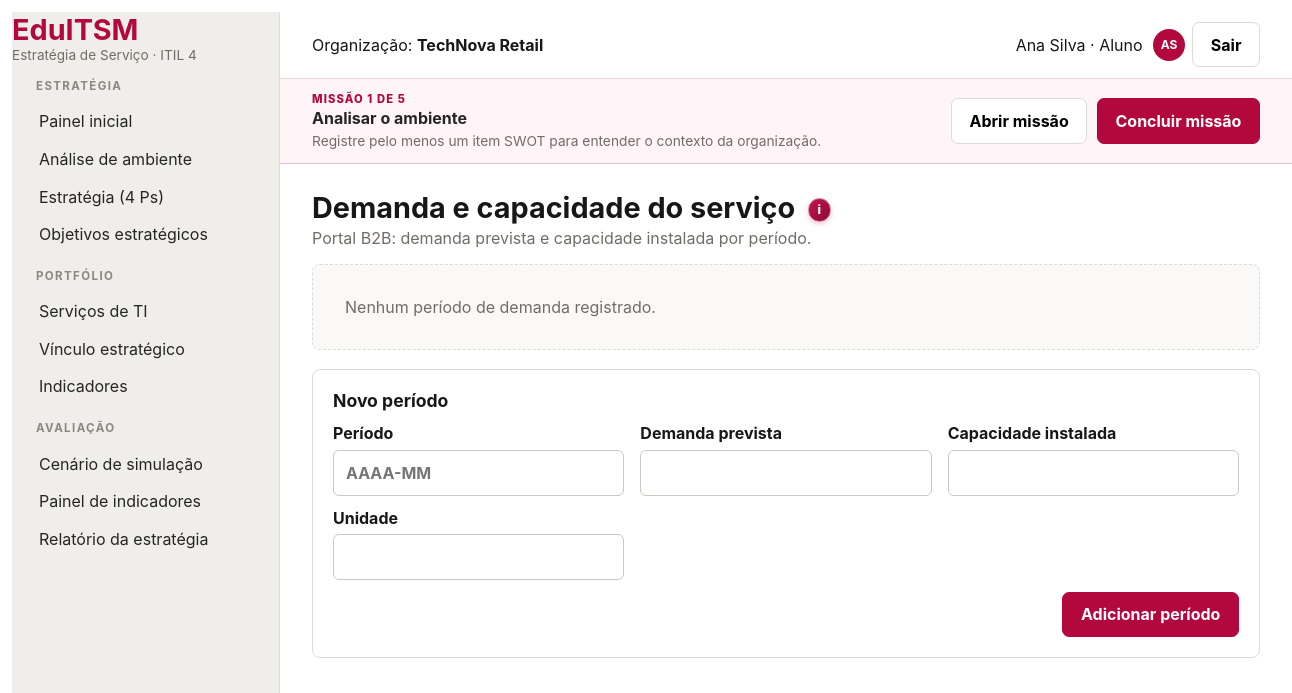
Test: T08 custos e T09 demanda › registra demanda e identifica capacidade excedida
The width and height of the screenshot is (1292, 693).
Expected: the text "Nenhum período de demanda registrado." is shown, x1=312 y1=264 x2=1260 y2=350
Type "2026-09" into the field labelled "Período" at x=479, y=472, box x1=333 y1=450 x2=624 y2=496
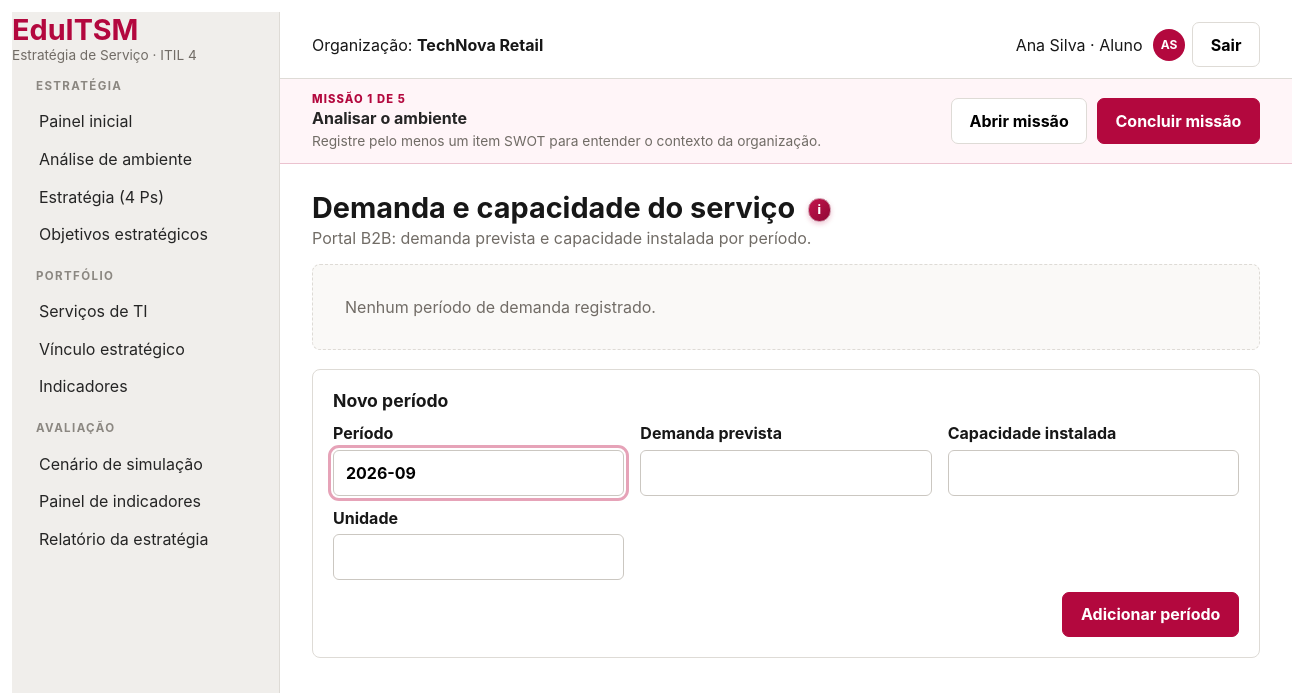
Type "120" into the number field labelled "Demanda prevista" at x=786, y=472, box x1=640 y1=450 x2=932 y2=496
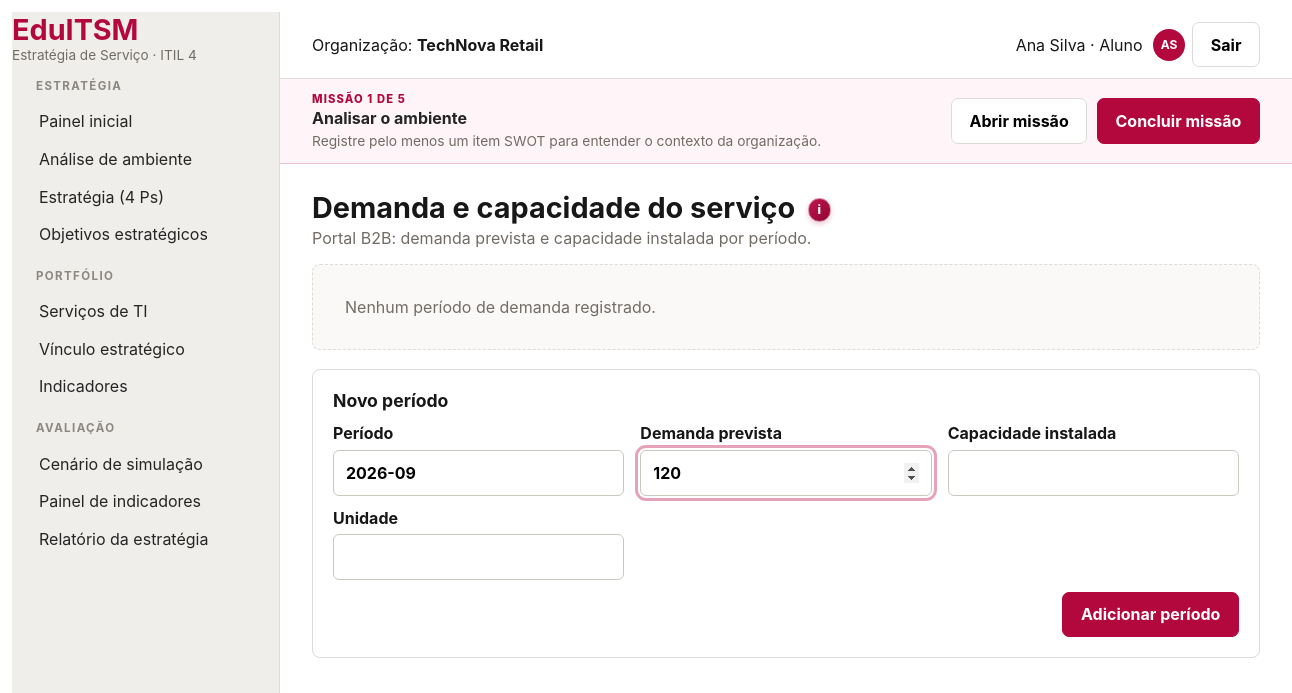
Type "100" into the number field labelled "Capacidade instalada" at x=1093, y=472, box x1=948 y1=450 x2=1239 y2=496
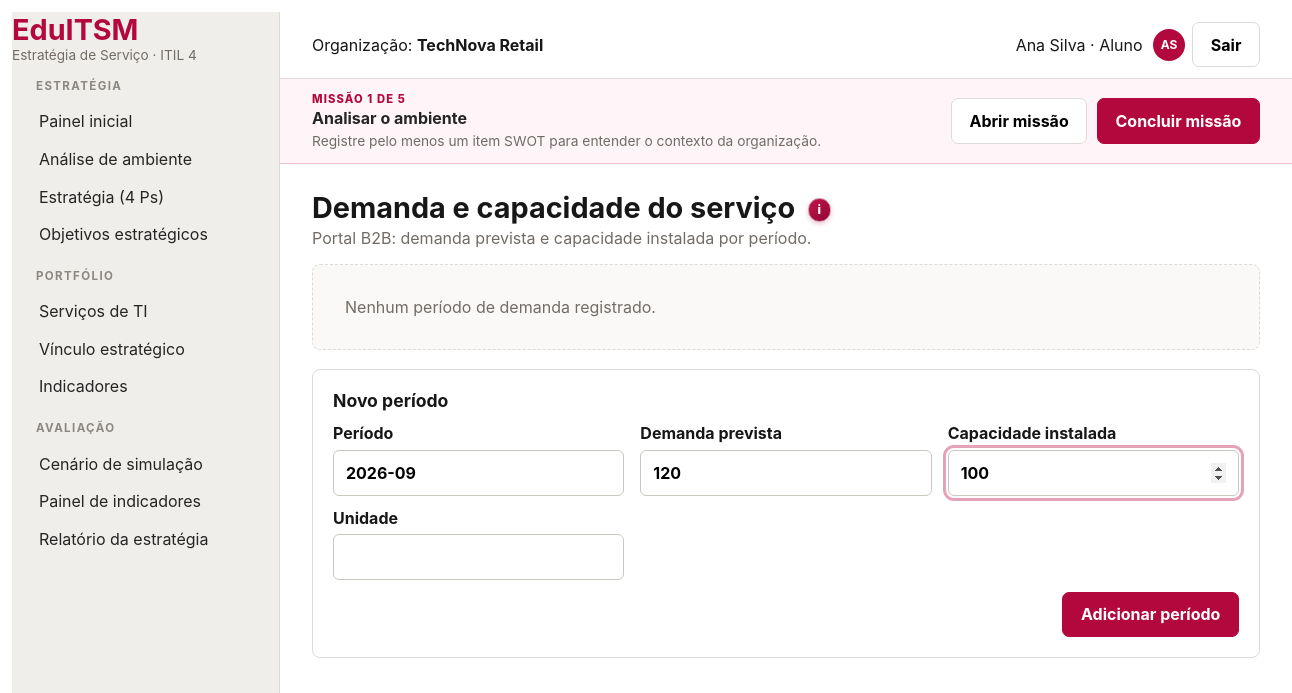
Type "chamados" into the field labelled "Unidade" at x=479, y=557, box x1=333 y1=534 x2=624 y2=580
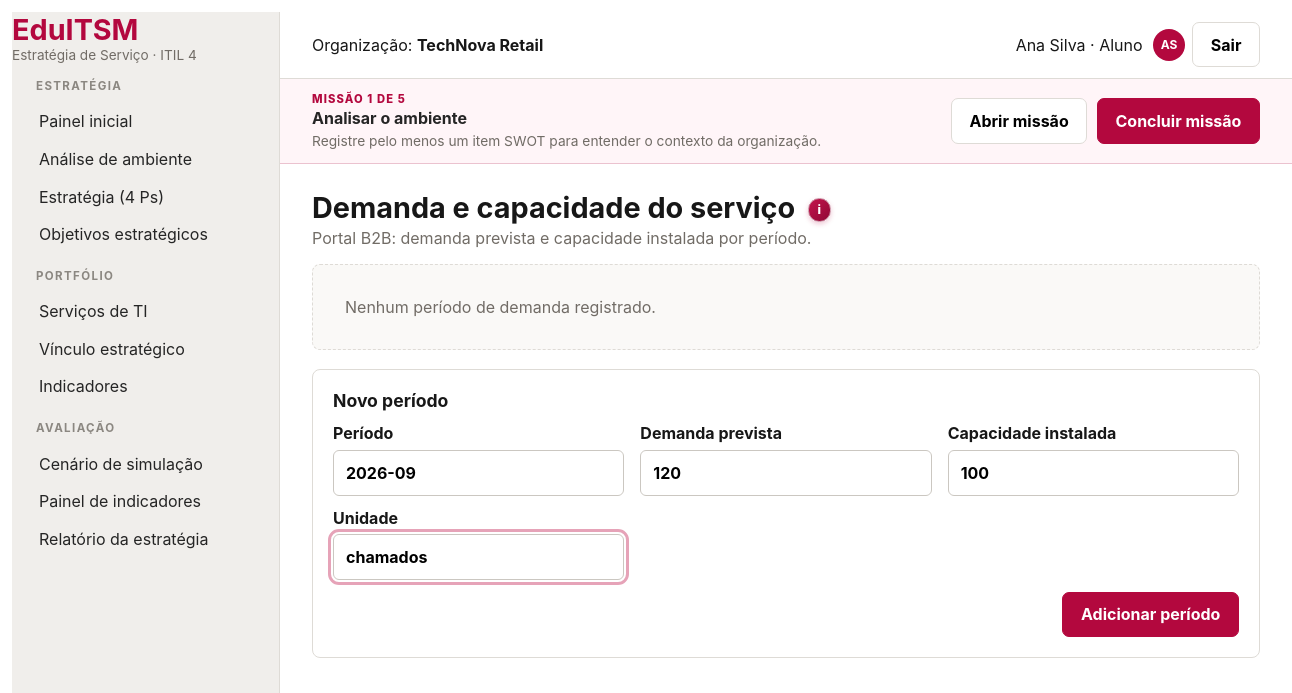
Click the button "Adicionar período" at x=1151, y=614, box x1=1062 y1=592 x2=1239 y2=637
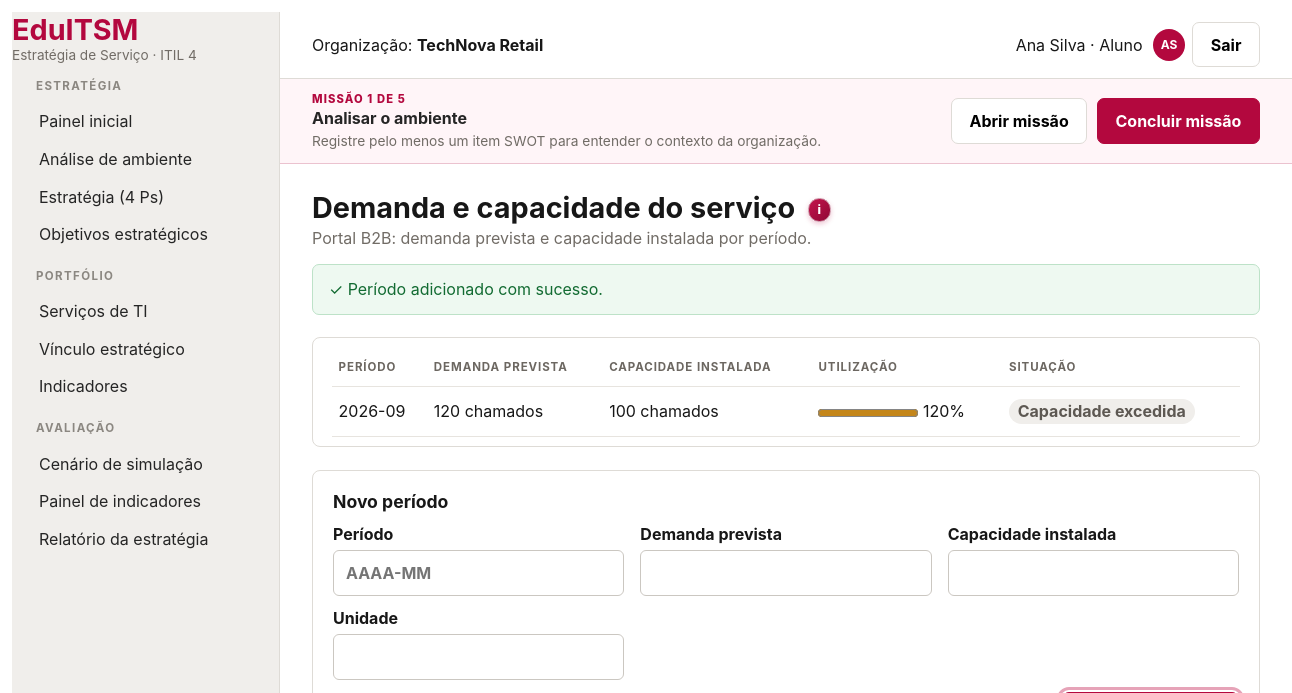
Expected: the text "Capacidade excedida" is shown, x1=1009 y1=399 x2=1195 y2=424
